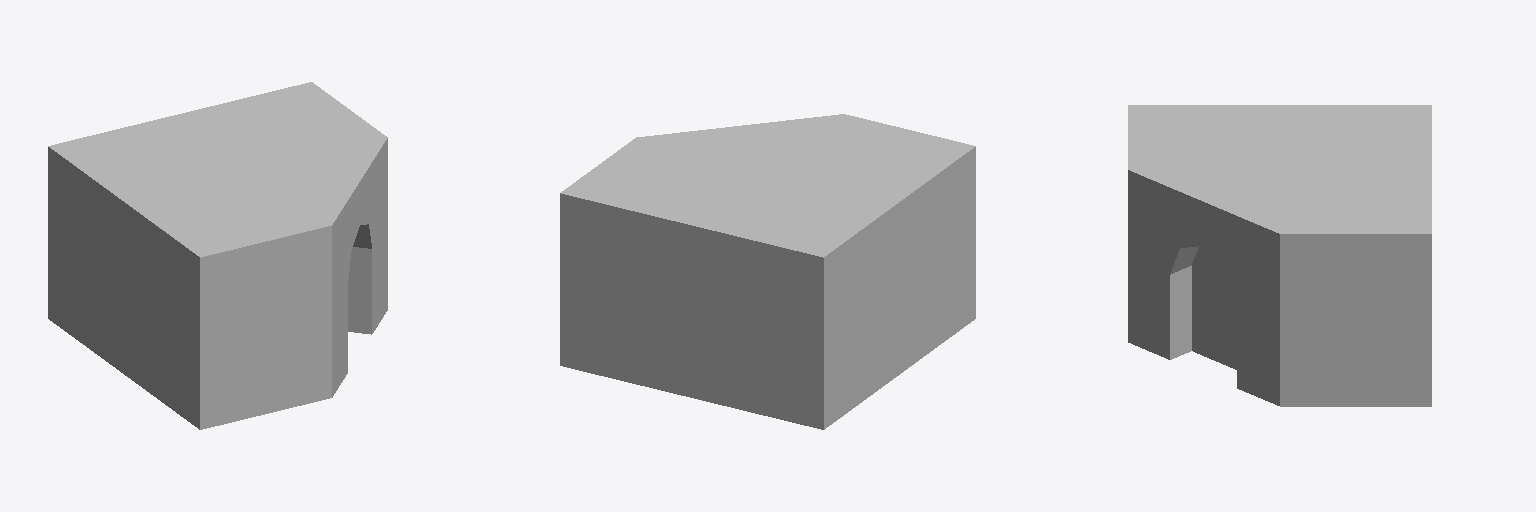
The model's file is building-corner-window-top-round.obj.
3 renders of one model, left to right at view 1: azimuth 30°, elevation 25°; view 2: azimuth 150°, elevation 25°; view 3: azimuth 270°, elevation 25°, orthographic.
Visible parts, largest first — view 1: building-corner-window-top-round; view 2: building-corner-window-top-round; view 3: building-corner-window-top-round.
Part boxes in pixels (bbox=[...]): building-corner-window-top-round: bbox=[48, 82, 387, 429]; building-corner-window-top-round: bbox=[560, 114, 975, 429]; building-corner-window-top-round: bbox=[1128, 105, 1431, 406].
Bounding box in the file's own units: 1 × 0.625 × 1.